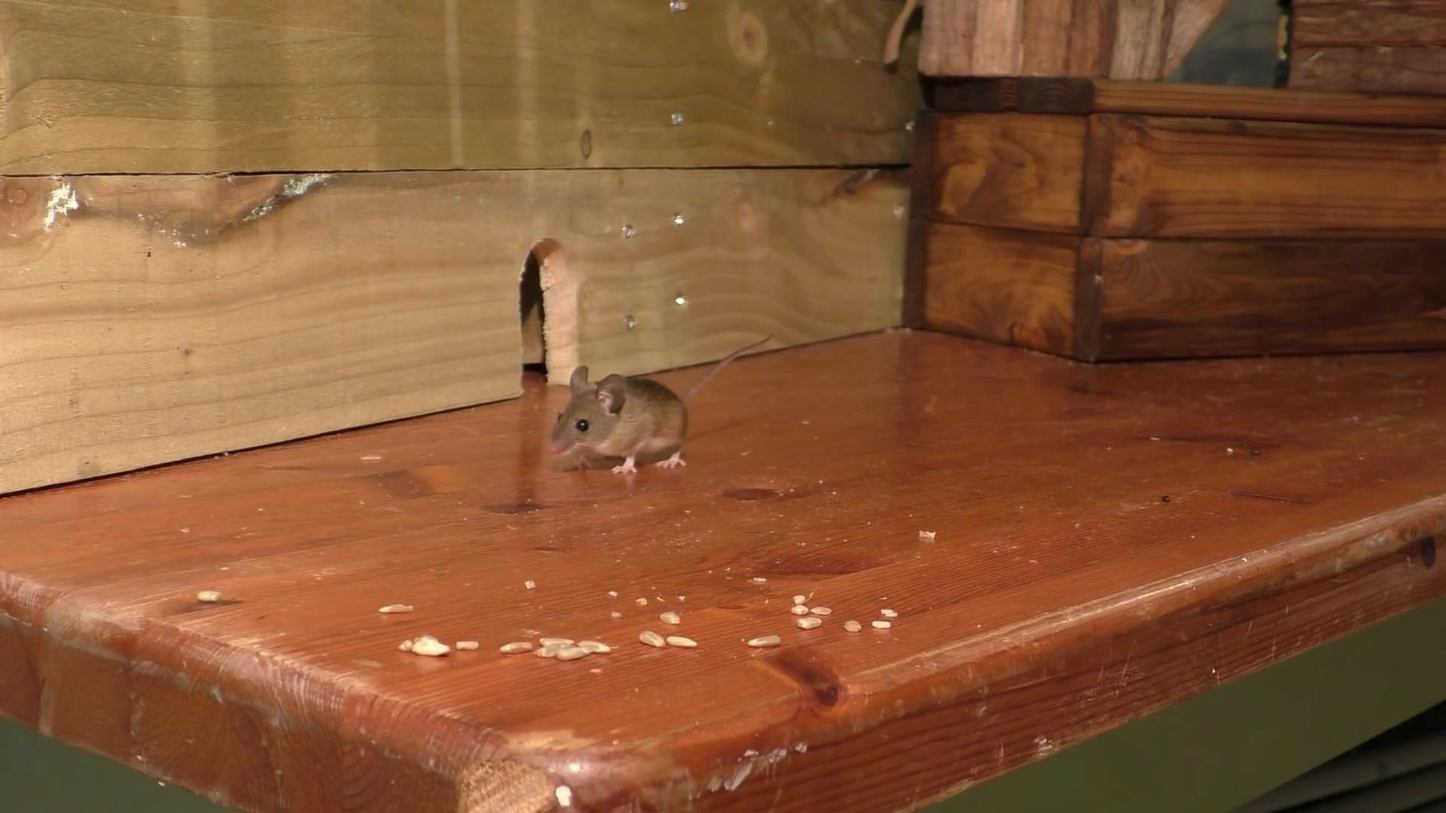mouse: (549, 330, 776, 478)
